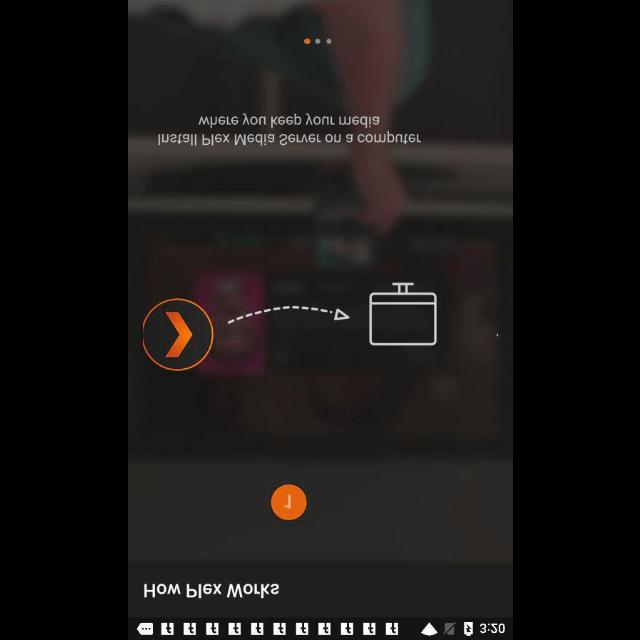backgroundimage: (128, 0, 512, 616)
image: (141, 281, 437, 371), (270, 484, 306, 520)
pageindicator: (302, 37, 332, 44)
text: (157, 112, 420, 146), (144, 582, 278, 598)
uppertaskbar: (128, 617, 512, 639)
